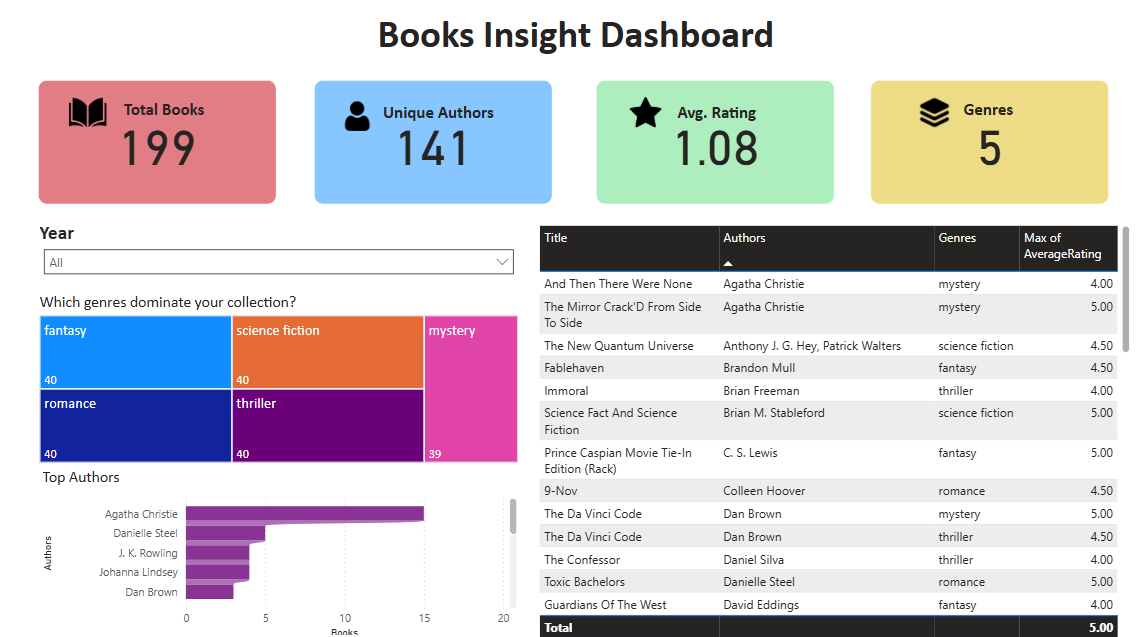

The page's visual inventory and layout, read from the dashboard file:
{"tool":"powerbi","page":{"name":"Page 1","canvas":[1280,720],"ordinal":0},"visuals":[{"type":"card","title":"Total Books","fields":{"Values":["books_transformed.id"]},"box":[46.4,99.4,263.4,137.5],"z":0},{"type":"treemap","title":"Which genres dominate your collection?","fields":{"Values":["books_transformed.id"],"Group":["books_transformed.genre"]},"box":[43.1,333,538.4,193.8],"z":1000},{"type":"tableEx","fields":{"Values":["books_transformed.title","books_transformed.authors","books_transformed.genre","books_transformed.averageRating"]},"box":[594.7,255.1,662.6,465.5],"z":2000},{"type":"textbox","box":[0,16.6,1280.5,71.2],"z":3000},{"type":"image","box":[64.6,109.3,72.9,51.4],"z":4000},{"type":"textbox","box":[117.6,114.3,135.8,46.4],"z":5000},{"type":"card","title":"Total Books","fields":{"Values":["books_transformed.authors"]},"box":[351.2,99.4,263.4,137.5],"z":6000},{"type":"card","title":"Total Books","fields":{"Values":["books_transformed.AverageRating"]},"box":[662.6,99.4,263.4,137.5],"z":7000},{"type":"card","title":"Total Books","fields":{"Values":["books_transformed.genre"]},"box":[965.7,99.4,263.4,137.5],"z":8000},{"type":"textbox","box":[422.4,117.6,192.2,43.1],"z":9000},{"type":"image","box":[376,117.6,46.4,43.1],"z":10000},{"type":"textbox","box":[730.5,117.6,130.9,43.1],"z":11000},{"type":"image","box":[692.4,109.3,49.7,51.4],"z":12000},{"type":"textbox","box":[1046.9,114.3,97.7,46.4],"z":13000},{"type":"image","box":[1013.8,109.3,44.7,51.4],"z":14000},{"type":"barChart","title":"Top Authors","fields":{"Category":["books_transformed.Authors"],"Y":["books_transformed.id"]},"box":[46.4,526.8,533.4,193.8],"z":15000},{"type":"slicer","title":"Year","fields":{"Values":["books_transformed.PublishedYear"]},"box":[43.1,255.1,538.4,64.6],"z":16000}]}

Visuals, with their boxes in screenshot pixels (x1, y1, x2, y2), scaled from the page's 1280x720 canvas onto the 1144x637 screenshot:
"Total Books" card: {"x1": 41, "y1": 88, "x2": 277, "y2": 210}
"Which genres dominate your collection?" treemap: {"x1": 39, "y1": 295, "x2": 520, "y2": 466}
tableEx - books_transformed.title x books_transformed.authors: {"x1": 532, "y1": 226, "x2": 1124, "y2": 636}
textbox: {"x1": 0, "y1": 15, "x2": 1143, "y2": 78}
image: {"x1": 58, "y1": 97, "x2": 123, "y2": 142}
textbox: {"x1": 105, "y1": 101, "x2": 226, "y2": 142}
"Total Books" card: {"x1": 314, "y1": 88, "x2": 549, "y2": 210}
"Total Books" card: {"x1": 592, "y1": 88, "x2": 828, "y2": 210}
"Total Books" card: {"x1": 863, "y1": 88, "x2": 1099, "y2": 210}
textbox: {"x1": 378, "y1": 104, "x2": 549, "y2": 142}
image: {"x1": 336, "y1": 104, "x2": 378, "y2": 142}
textbox: {"x1": 653, "y1": 104, "x2": 770, "y2": 142}
image: {"x1": 619, "y1": 97, "x2": 663, "y2": 142}
textbox: {"x1": 936, "y1": 101, "x2": 1023, "y2": 142}
image: {"x1": 906, "y1": 97, "x2": 946, "y2": 142}
"Top Authors" barChart: {"x1": 41, "y1": 466, "x2": 518, "y2": 636}
"Year" slicer: {"x1": 39, "y1": 226, "x2": 520, "y2": 283}
